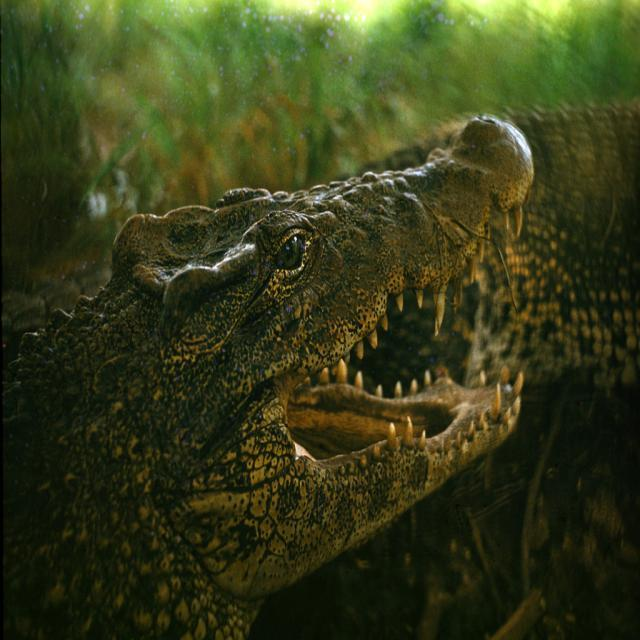crocodile: (0, 93, 575, 639)
